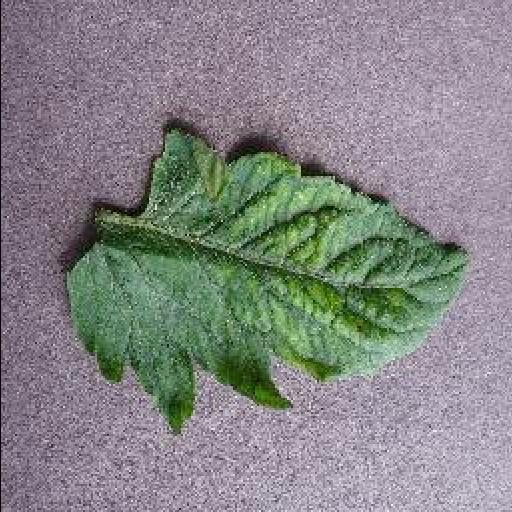disease_tomato: (61, 124, 472, 438)
